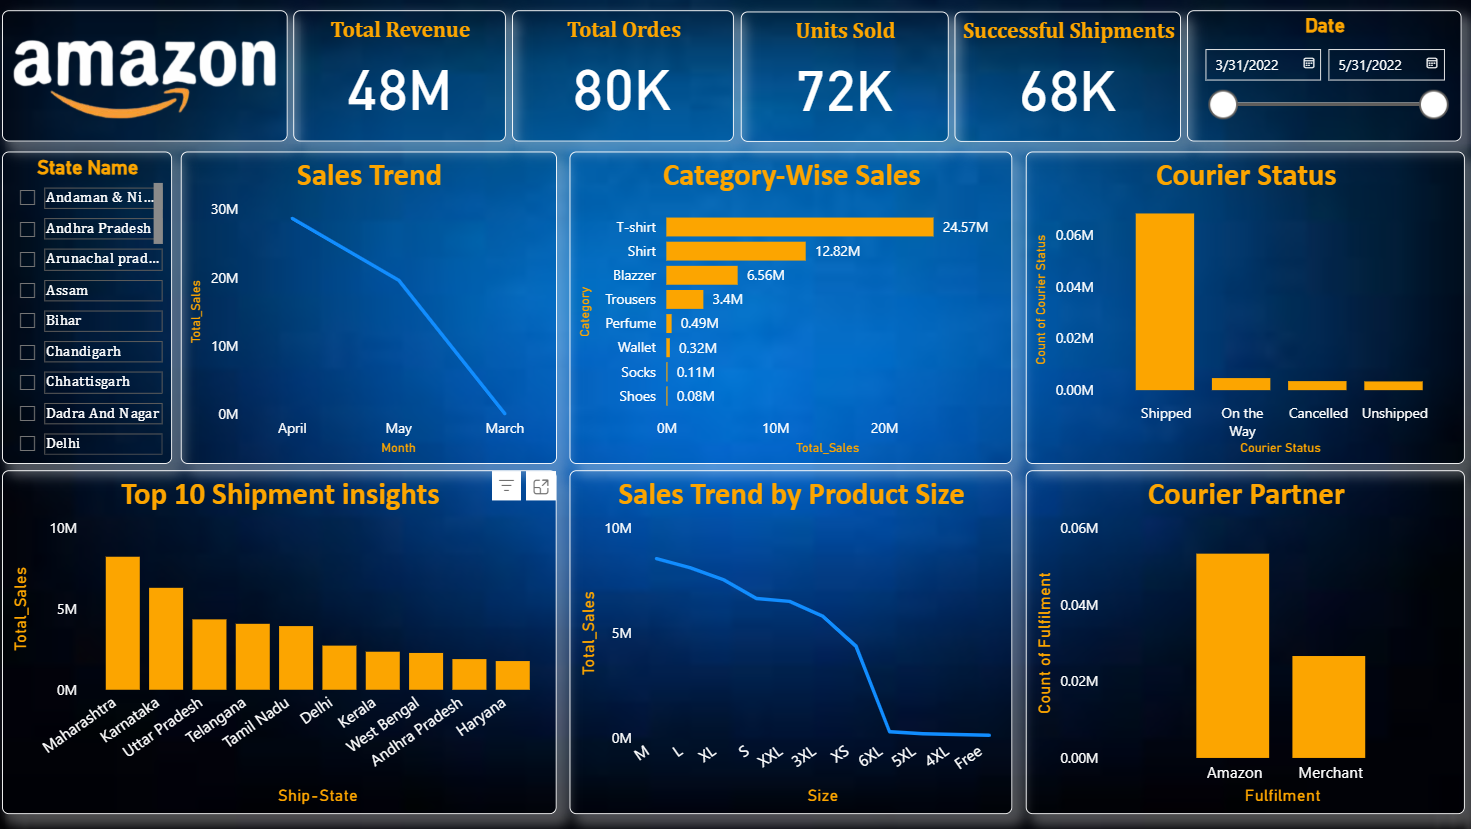

The page's visual inventory and layout, read from the dashboard file:
{"tool":"powerbi","page":{"name":"Amazon_Sales_Report_Dashboard","canvas":[1280,720],"ordinal":0},"visuals":[{"type":"image","box":[8.2,9.6,247,113.9],"z":0},{"type":"advanceCardE03760C5AB684758B56AA29F9E6C257B","title":"Total Revenue","fields":{"mainMeasure":["Amazon Sale Report.Total_Sales"]},"box":[260.7,9.6,183.9,113.9],"z":1000},{"type":"advanceCardE03760C5AB684758B56AA29F9E6C257B","title":"Total Ordes","fields":{"mainMeasure":["Amazon Sale Report.Total_Orders"]},"box":[450.1,9.6,192.1,113.9],"z":2000},{"type":"advanceCardE03760C5AB684758B56AA29F9E6C257B","title":"Units Sold","fields":{"mainMeasure":["Amazon Sale Report.Total_Qty"]},"box":[647.7,11,179.8,112.5],"z":3000},{"type":"advanceCardE03760C5AB684758B56AA29F9E6C257B","title":"Successful Shipments","fields":{"mainMeasure":["Amazon Sale Report.Delivered_Orders"]},"box":[832.9,11,196.2,112.5],"z":4000},{"type":"lineChart","title":"Sales Trend","fields":{"Y":["Amazon Sale Report.Total_Sales"],"Category":["Amazon Sale Report.Date.Variation.Date Hierarchy.Month"]},"box":[163.3,131.7,325.2,270.3],"z":5000},{"type":"clusteredBarChart","title":"Category-Wise Sales","fields":{"Category":["Amazon Sale Report.Category"],"Y":["Amazon Sale Report.Total_Sales"]},"box":[499.5,131.7,382.8,270.3],"z":6000},{"type":"slicer","title":"State Name","fields":{"Values":["Amazon Sale Report.Ship-State"]},"box":[8.2,131.7,146.8,270.3],"z":7000},{"type":"columnChart","title":"Courier Partner","fields":{"Category":["Amazon Sale Report.Fulfilment"],"Y":["CountNonNull(Amazon Sale Report.Fulfilment)"]},"box":[894.7,407.5,380.1,297.8],"z":8000},{"type":"clusteredColumnChart","title":"Top 10 Shipment insights","fields":{"Y":["Amazon Sale Report.Total_Sales"],"Category":["Amazon Sale Report.Ship-State"]},"box":[8.2,407.5,480.3,297.8],"z":9000},{"type":"columnChart","title":"Courier Status","fields":{"Category":["Amazon Sale Report.Courier Status"],"Y":["CountNonNull(Amazon Sale Report.Courier Status)"]},"box":[894.7,131.7,380.1,270.3],"z":10000},{"type":"lineChart","title":"Sales Trend by Product Size","fields":{"Category":["Amazon Sale Report.Size"],"Y":["Amazon Sale Report.Total_Sales"]},"box":[499.5,407.5,382.8,297.8],"z":11000},{"type":"slicer","title":"Date","fields":{"Values":["Amazon Sale Report.Date"]},"box":[1034.7,9.6,237.4,113.9],"z":12000}]}

Visuals, with their boxes in screenshot pixels (x1, y1, x2, y2), scaled from the page's 1280x720 canvas onto the 1472x829 screenshot:
image: [9, 11, 293, 142]
"Total Revenue" advanceCardE03760C5AB684758B56AA29F9E6C257B: [300, 11, 511, 142]
"Total Ordes" advanceCardE03760C5AB684758B56AA29F9E6C257B: [518, 11, 739, 142]
"Units Sold" advanceCardE03760C5AB684758B56AA29F9E6C257B: [745, 13, 952, 142]
"Successful Shipments" advanceCardE03760C5AB684758B56AA29F9E6C257B: [958, 13, 1183, 142]
"Sales Trend" lineChart: [188, 152, 562, 463]
"Category-Wise Sales" clusteredBarChart: [574, 152, 1015, 463]
"State Name" slicer: [9, 152, 178, 463]
"Courier Partner" columnChart: [1029, 469, 1466, 812]
"Top 10 Shipment insights" clusteredColumnChart: [9, 469, 562, 812]
"Courier Status" columnChart: [1029, 152, 1466, 463]
"Sales Trend by Product Size" lineChart: [574, 469, 1015, 812]
"Date" slicer: [1190, 11, 1463, 142]
